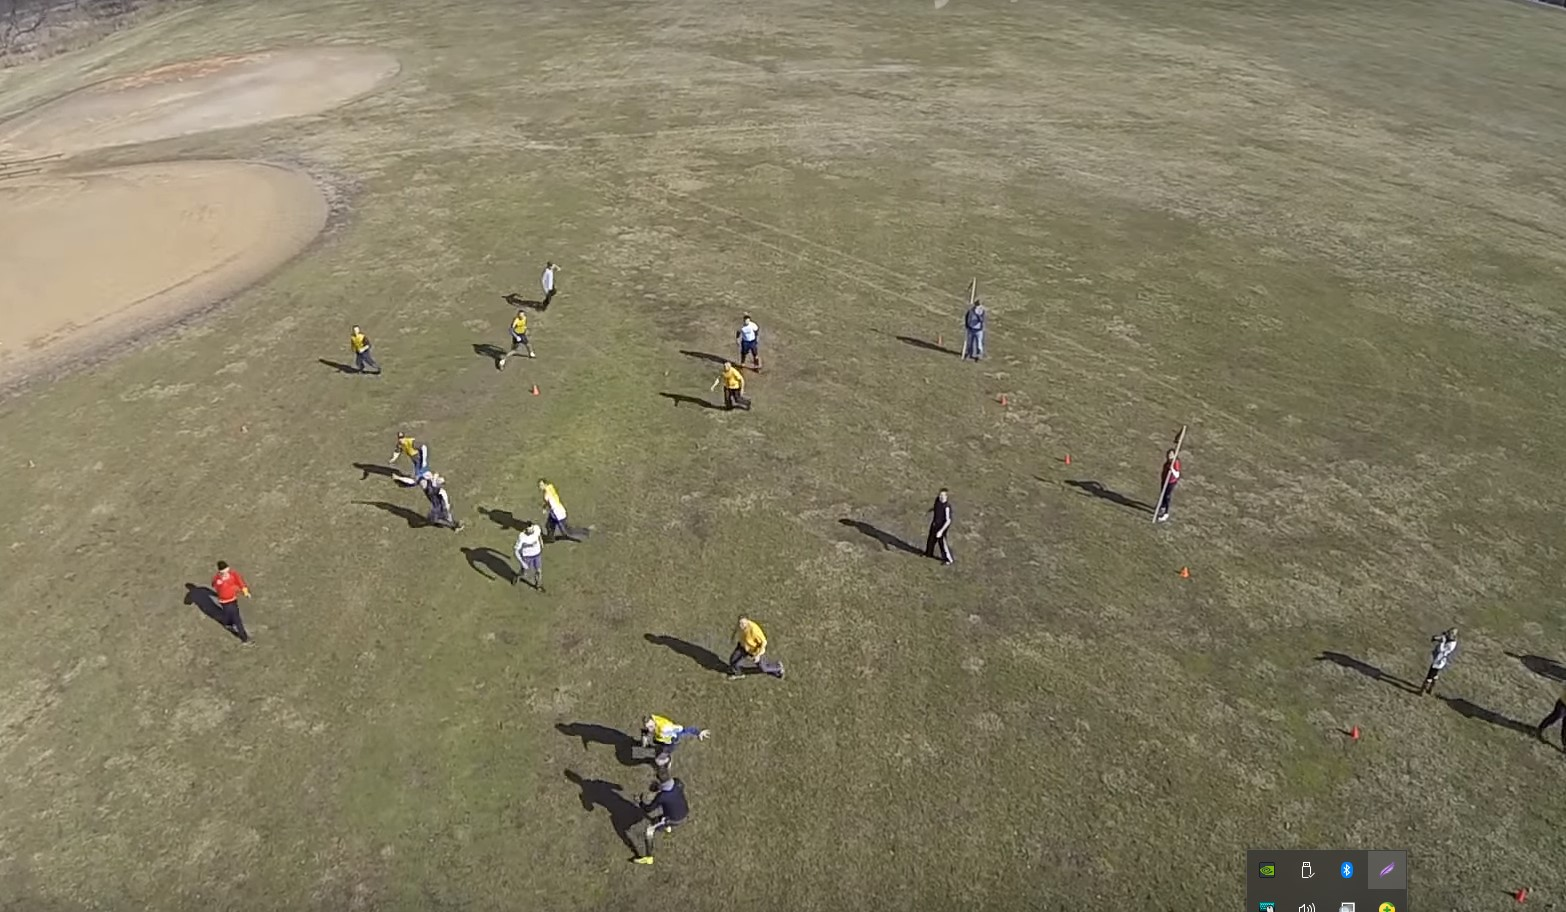insan: (635, 766, 692, 860), (389, 464, 462, 533), (724, 610, 785, 682), (531, 479, 591, 544), (206, 561, 254, 644), (637, 708, 711, 751), (492, 305, 538, 368), (1422, 622, 1460, 695), (511, 519, 550, 590), (925, 483, 955, 567), (707, 356, 750, 410), (383, 431, 434, 470), (1155, 444, 1181, 515), (347, 320, 378, 376), (965, 299, 992, 361), (534, 260, 563, 313), (735, 310, 761, 369)
